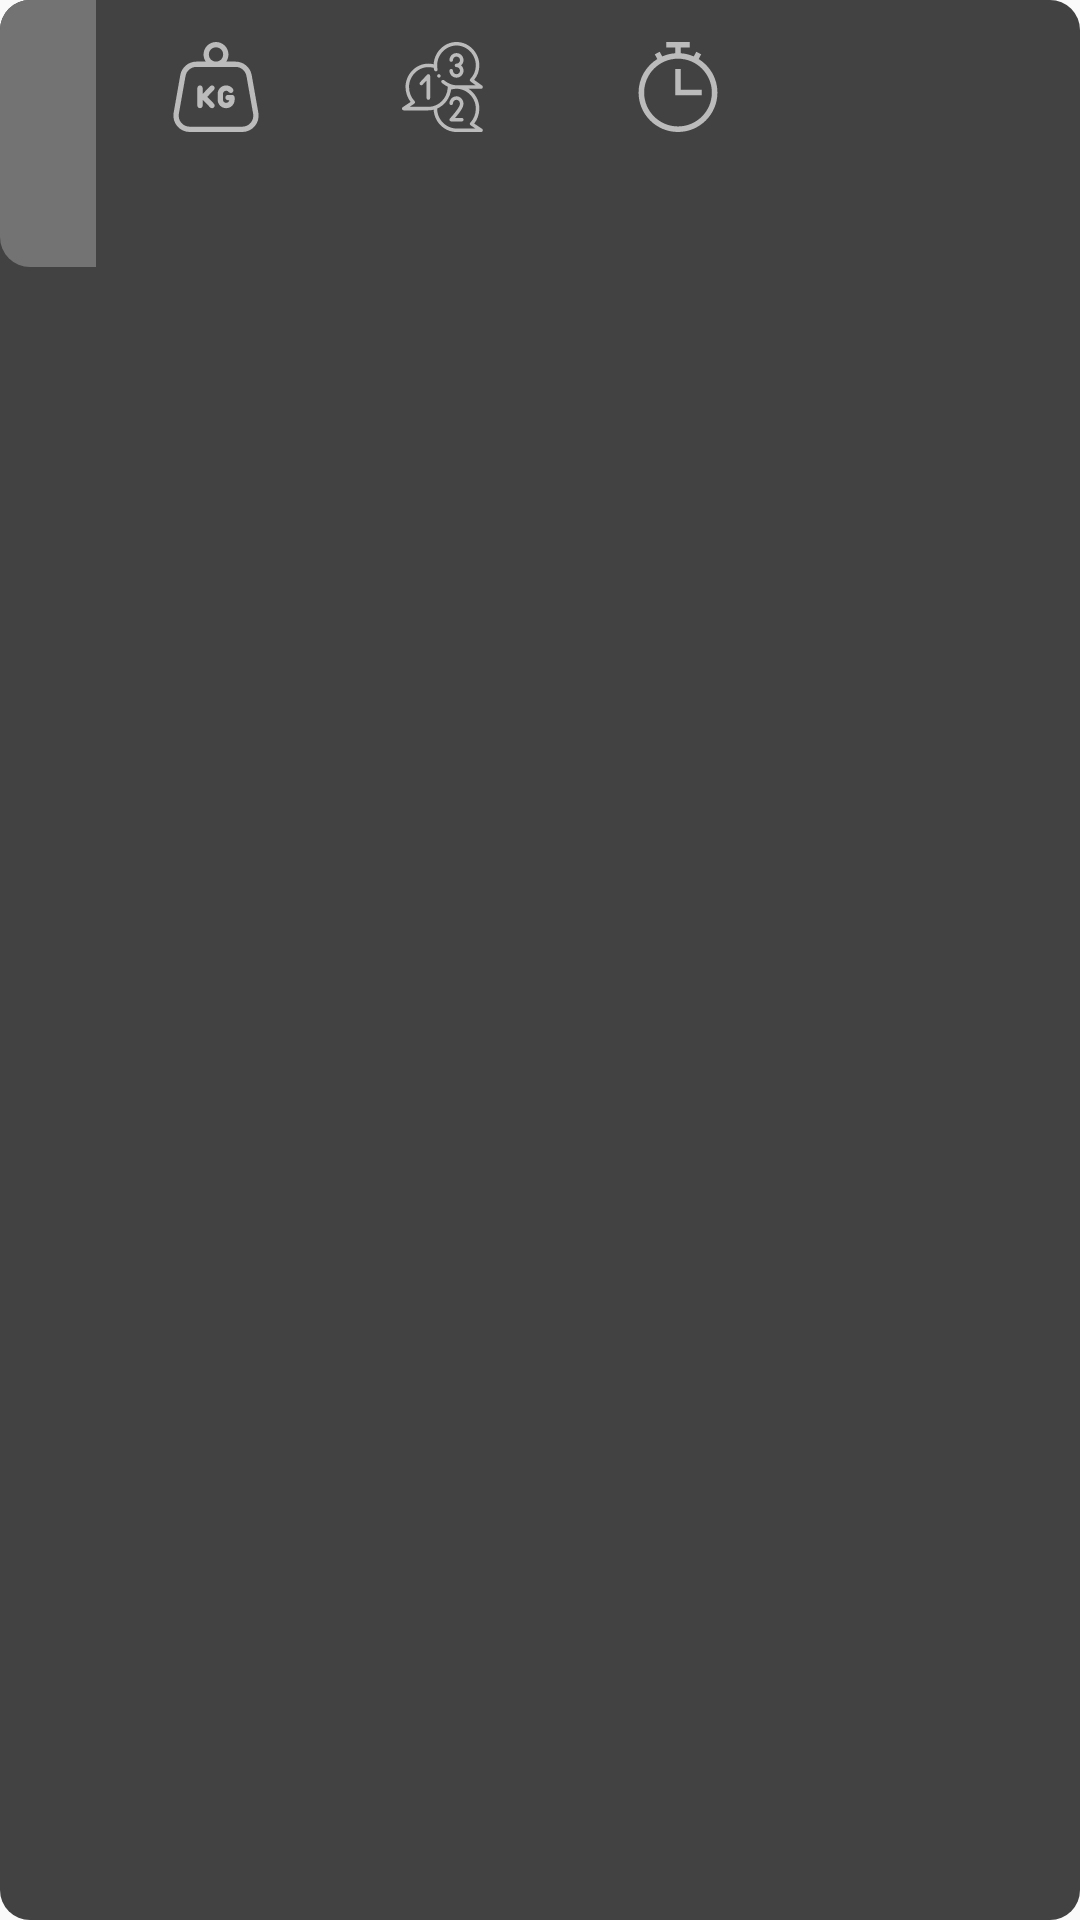

Point at icon controls on the screen. Image size 1080×1920, points as (x,y).
timer: (678,87)
weight: (216,87)
